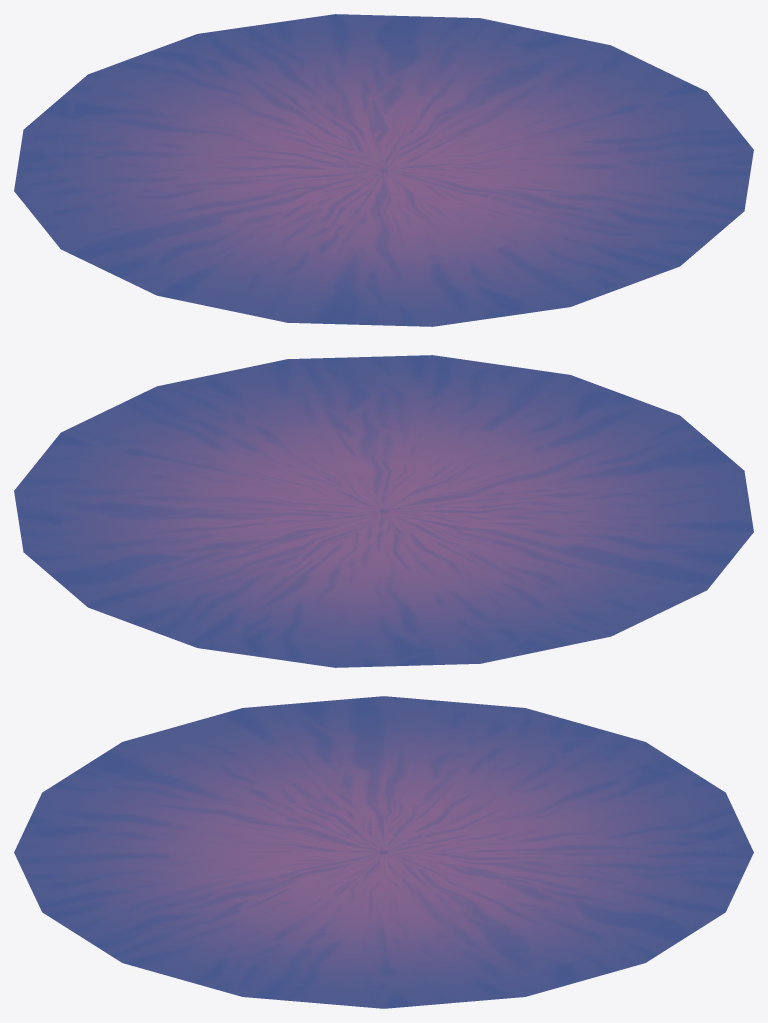
File: SM_SimpleCircle.fbx
3 views of the same model, one above another, from view 1: azimuth 30°, elevation 25°; view 2: azimuth 150°, elevation 25°; view 3: azimuth 270°, elevation 25° (orthographic).
Parts seen in each view (by area): view 1: Sphere; view 2: Sphere; view 3: Sphere.
Boxes of the visible parts, x1,y1,x2,y2 form: Sphere: (14, 14, 753, 326); Sphere: (14, 355, 753, 667); Sphere: (14, 696, 753, 1008).
Bounding box in the file's own units: 196 × 3.2e-05 × 196.
1 material, 1 textured.
